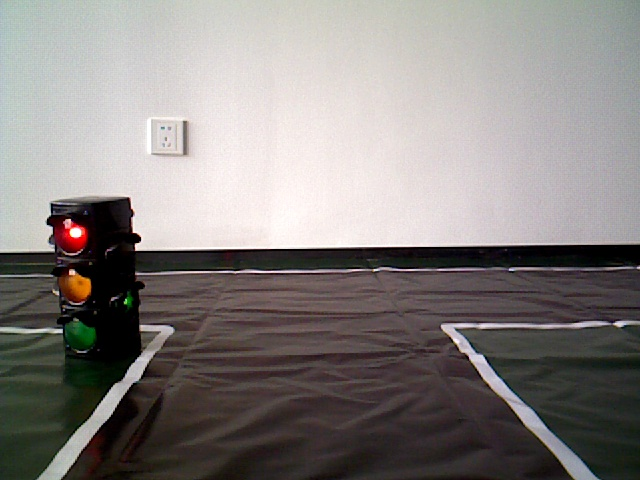red: (51, 204, 139, 364)
